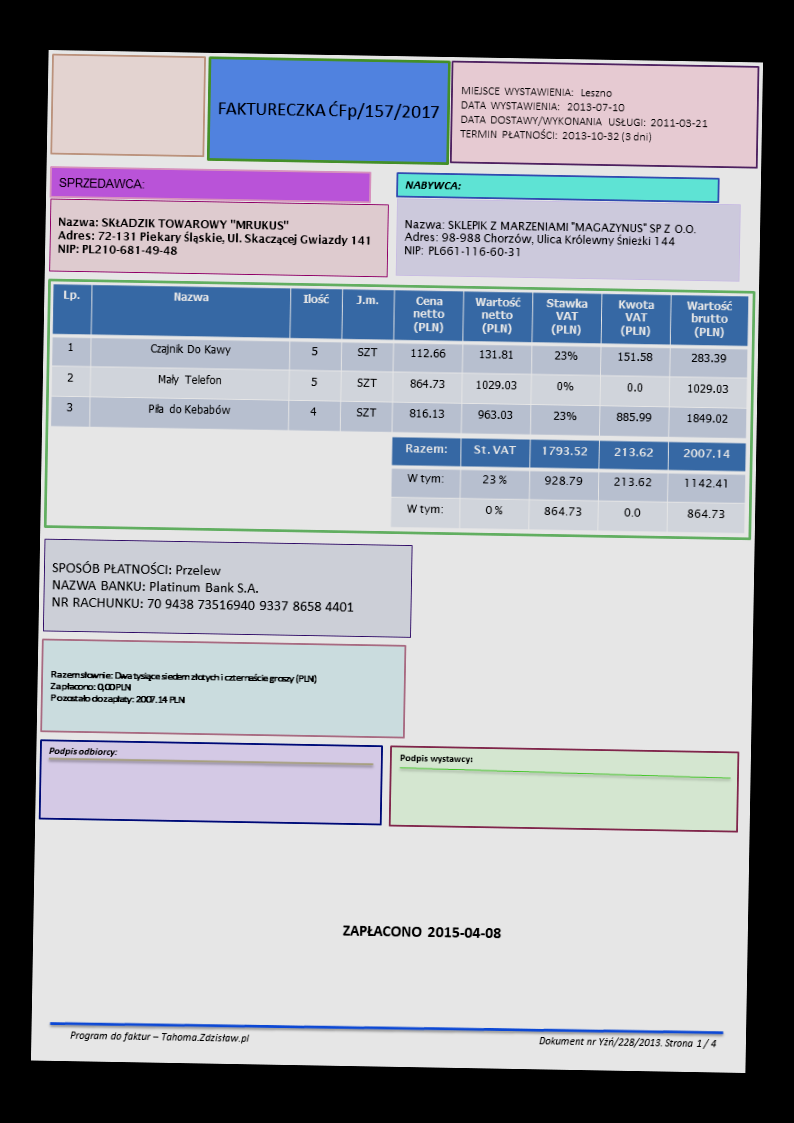Table: (48, 281, 747, 437), (388, 434, 748, 534)
TextBox: (46, 556, 358, 617), (454, 81, 712, 149), (54, 209, 372, 264), (400, 213, 699, 265), (47, 665, 322, 710), (210, 92, 442, 125), (64, 1022, 252, 1050), (335, 917, 505, 944), (536, 1032, 723, 1053), (53, 172, 146, 191), (45, 740, 120, 762), (392, 749, 475, 768), (402, 176, 461, 195)
